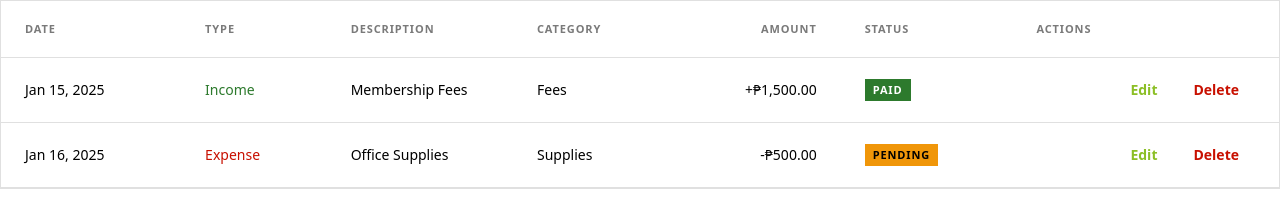
it: EntryTable Component › handles delete confirmation flow correctly (showing Cancel/Confirm buttons)
Step 1. Click the button with test id "delete-btn-b1" → (1216, 90), box x1=1178 y1=66 x2=1255 y2=114
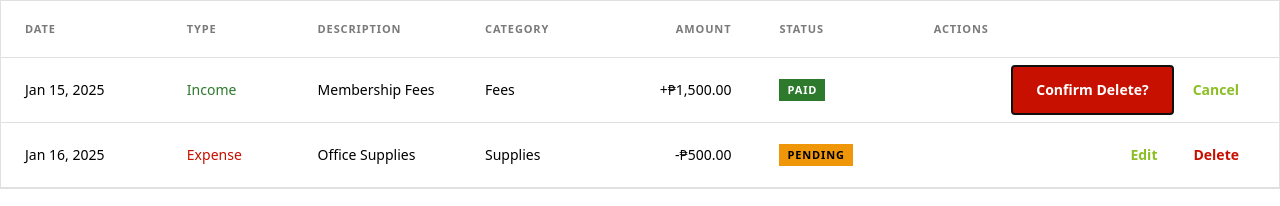
Now the link with test id "edit-btn-b1" is gone
Now the button with test id "confirm-delete-b1" is shown, box x1=1012 y1=66 x2=1173 y2=114
Now the button with test id "cancel-delete-b1" is shown
Click cancel
Step 2. Click the button with test id "cancel-delete-b1" → (1216, 90), box x1=1177 y1=66 x2=1255 y2=114
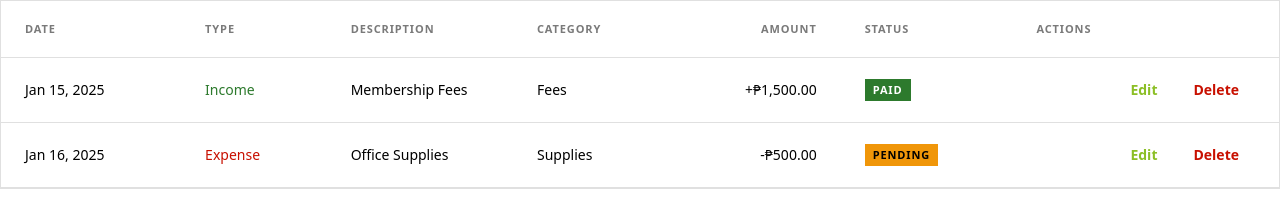
Now the button with test id "delete-btn-b1" is shown, box x1=1178 y1=66 x2=1255 y2=114
Now the link with test id "edit-btn-b1" is shown, box x1=1130 y1=80 x2=1158 y2=99
Now the button with test id "confirm-delete-b1" is gone
